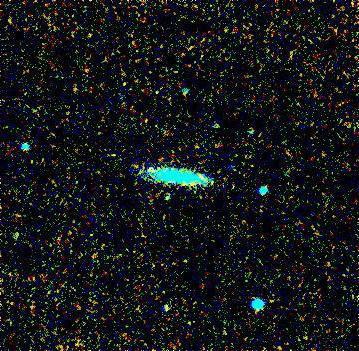star: (136, 152, 166, 182)
